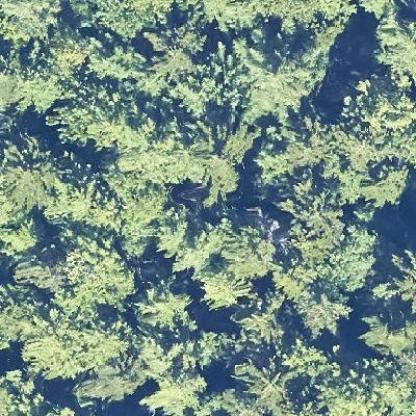tree-top: (19, 300, 106, 376), (241, 41, 309, 109), (2, 146, 57, 209), (132, 274, 188, 328), (298, 282, 350, 336), (368, 17, 415, 76), (147, 370, 206, 415), (198, 262, 249, 314), (146, 24, 198, 73), (233, 291, 283, 338), (0, 0, 52, 42), (85, 35, 132, 79), (48, 26, 89, 69), (250, 360, 291, 400)
